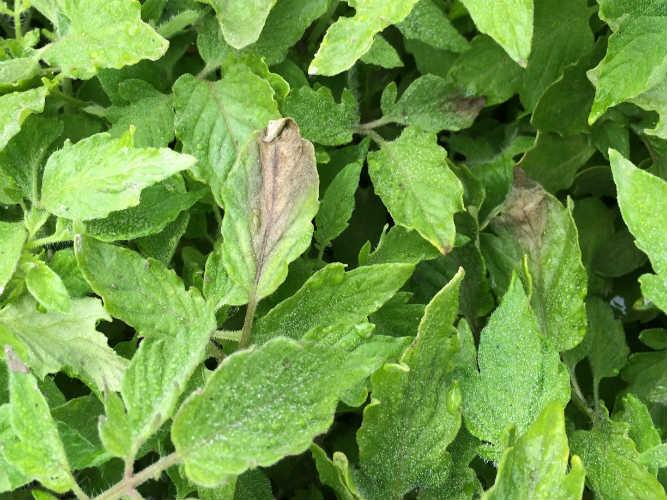Tomato mold leaf: (168, 337, 408, 485), (354, 262, 488, 495), (193, 119, 339, 309), (76, 310, 240, 472), (485, 166, 594, 364), (71, 231, 233, 340), (467, 268, 547, 459), (37, 143, 216, 217), (358, 128, 462, 247)
